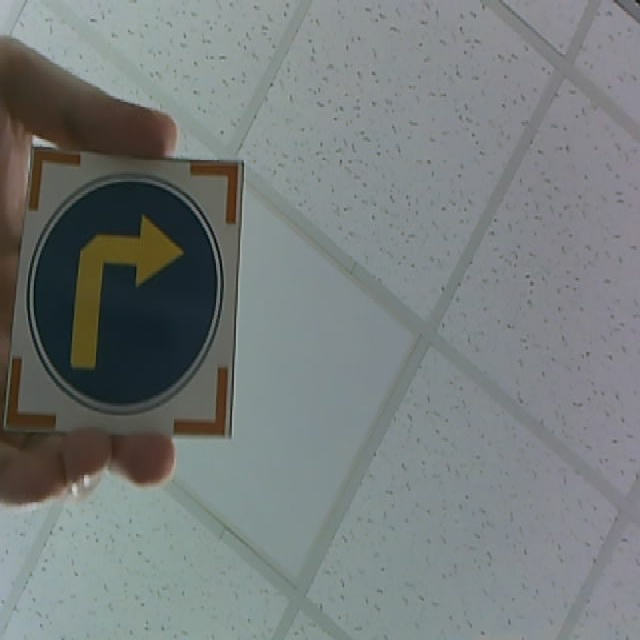right: (1, 148, 245, 441)
